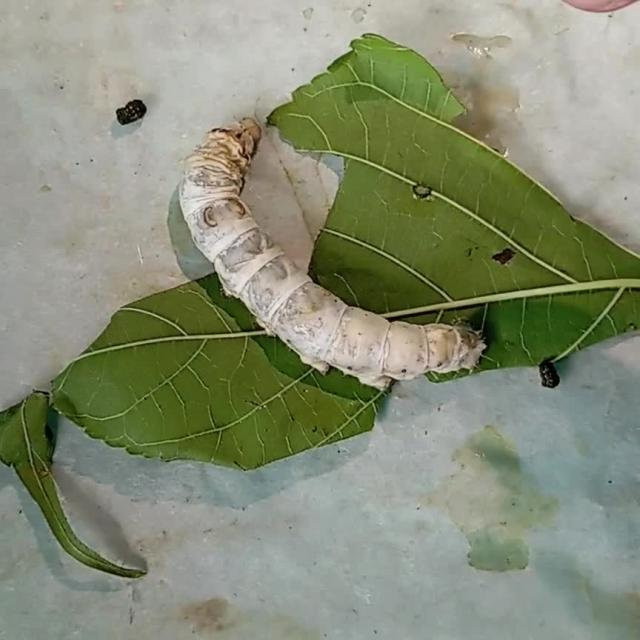Grasserie: (156, 88, 498, 420)
